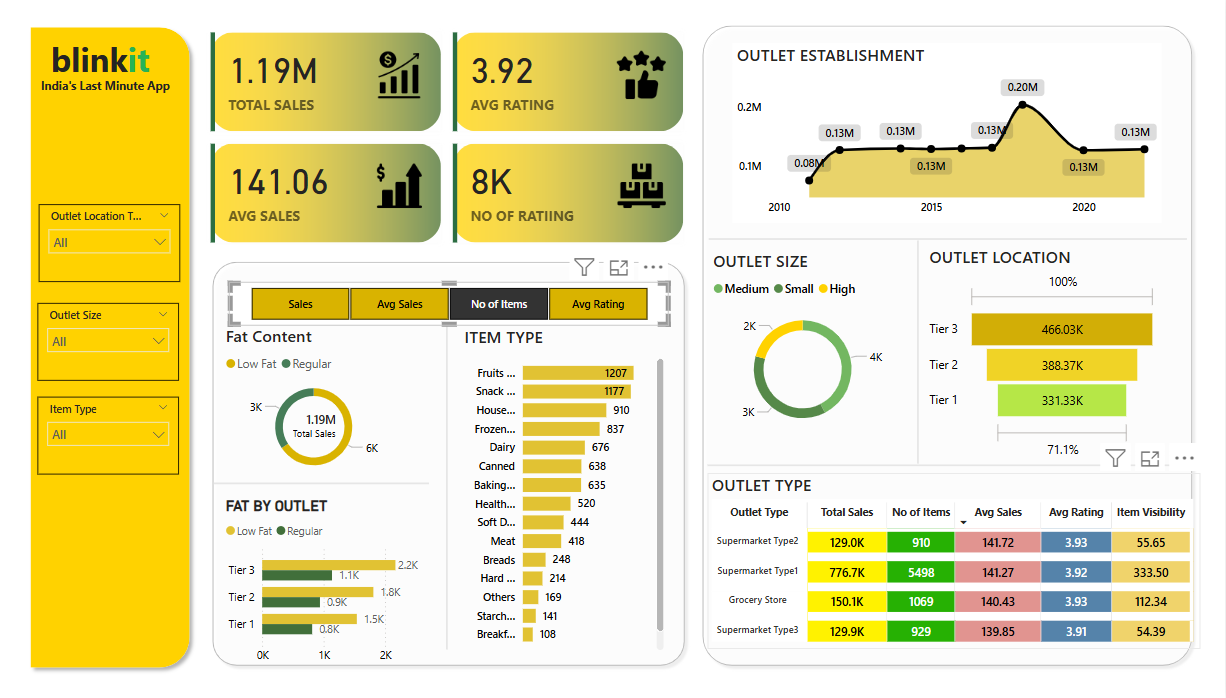

The dashboard page shown, as its layout file describes it:
{"tool":"powerbi","page":{"name":"Page 1","canvas":[1400,800],"ordinal":0},"visuals":[{"type":"shape","box":[26,24,200,750],"z":0},{"type":"textbox","box":[41.1,85.6,184.4,35.6],"z":1000},{"type":"textbox","box":[53.3,40,210,53.3],"z":2000},{"type":"textbox","box":[276.7,553.3,200,50],"z":3000},{"type":"cardVisual","fields":{"Data":["BlinkIT Grocery Data.Total Sales","BlinkIT Grocery Data.Avg Sales","BlinkIT Grocery Data.Avg Rating","BlinkIT Grocery Data.No of Items"]},"box":[226,24,570,270],"z":4000},{"type":"shape","box":[236,294,554,476],"z":5000},{"type":"donutChart","title":"Fat Content","fields":{"Y":["BlinkIT Grocery Data.Avg Sales"],"Category":["BlinkIT Grocery Data.Item Fat Content"]},"box":[253.3,373.3,211.7,180],"z":6000},{"type":"slicer","fields":{"Values":["Metrics.Metrics"]},"box":[262,324,502,50],"z":7000},{"type":"cardVisual","fields":{"Data":["BlinkIT Grocery Data.Total Sales"]},"box":[316,456,85,57],"z":8000},{"type":"clusteredBarChart","title":"FAT BY OUTLET","fields":{"Y":["BlinkIT Grocery Data.Avg Sales"],"Category":["BlinkIT Grocery Data.Outlet Location Type"],"Series":["BlinkIT Grocery Data.Item Fat Content"]},"box":[253.3,570,236.7,200],"z":9000},{"type":"shape","box":[244,506,246,98],"z":10000},{"type":"shape","box":[486,368,50,376],"z":11000},{"type":"barChart","title":"ITEM TYPE","fields":{"Y":["BlinkIT Grocery Data.Avg Sales"],"Category":["BlinkIT Grocery Data.Item Type"]},"box":[526,374,238,376],"z":12000},{"type":"shape","box":[796,24,574,746],"z":13000},{"type":"lineChart","title":"OUTLET ESTABLISHMENT","fields":{"Category":["BlinkIT Grocery Data.Outlet Establishment Year"],"Y":["BlinkIT Grocery Data.Total Sales"]},"box":[837.1,51.4,490,205.7],"z":14000},{"type":"shape","box":[810,226.7,546.7,96.7],"z":15000},{"type":"donutChart","title":"OUTLET SIZE","fields":{"Y":["BlinkIT Grocery Data.Avg Sales"],"Category":["BlinkIT Grocery Data.Outlet Size"]},"box":[810,286.7,215,220],"z":16000},{"type":"funnel","title":"OUTLET LOCATION","fields":{"Y":["Sum(BlinkIT Grocery Data.Sales)"],"Category":["BlinkIT Grocery Data.Outlet Location Type"]},"box":[1056.7,283.3,270,248.3],"z":17000},{"type":"shape","box":[1005,276.7,86.7,255],"z":18000},{"type":"shape","box":[808.3,485,546.7,96.7],"z":19000},{"type":"pivotTable","title":"OUTLET TYPE","fields":{"Rows":["BlinkIT Grocery Data.Outlet Type"],"Values":["BlinkIT Grocery Data.Total Sales","BlinkIT Grocery Data.No of Items","BlinkIT Grocery Data.Avg Sales","BlinkIT Grocery Data.Avg Rating","Sum(BlinkIT Grocery Data.Item Visibility)"]},"box":[808.6,542.9,562.9,201.4],"z":20000},{"type":"slicer","fields":{"Values":["BlinkIT Grocery Data.Outlet Location Type"]},"box":[44.3,235.7,161.4,88.6],"z":21000},{"type":"slicer","fields":{"Values":["BlinkIT Grocery Data.Outlet Size"]},"box":[42.9,348.6,161.4,88.6],"z":22000},{"type":"slicer","fields":{"Values":["BlinkIT Grocery Data.Item Type"]},"box":[42.9,455.7,161.4,88.6],"z":23000}]}

Visuals, with their boxes in screenshot pixels (x1, y1, x2, y2), scaled from the page's 1400x800 canvas onto the 1226x698 screenshot:
shape: [23,21,198,675]
textbox: [36,75,197,106]
textbox: [47,35,231,81]
textbox: [242,483,417,526]
cardVisual - BlinkIT Grocery Data.Total Sales x BlinkIT Grocery Data.Avg Sales: [198,21,697,257]
shape: [207,257,692,672]
"Fat Content" donutChart: [222,326,407,483]
slicer - Metrics.Metrics: [229,283,669,326]
cardVisual - BlinkIT Grocery Data.Total Sales: [277,398,351,448]
"FAT BY OUTLET" clusteredBarChart: [222,497,429,672]
shape: [214,441,429,527]
shape: [426,321,469,649]
"ITEM TYPE" barChart: [461,326,669,654]
shape: [697,21,1200,672]
"OUTLET ESTABLISHMENT" lineChart: [733,45,1162,224]
shape: [709,198,1188,282]
"OUTLET SIZE" donutChart: [709,250,898,442]
"OUTLET LOCATION" funnel: [925,247,1162,464]
shape: [880,241,956,464]
shape: [708,423,1187,508]
"OUTLET TYPE" pivotTable: [708,474,1201,649]
slicer - BlinkIT Grocery Data.Outlet Location Type: [39,206,180,283]
slicer - BlinkIT Grocery Data.Outlet Size: [38,304,179,381]
slicer - BlinkIT Grocery Data.Item Type: [38,398,179,475]
